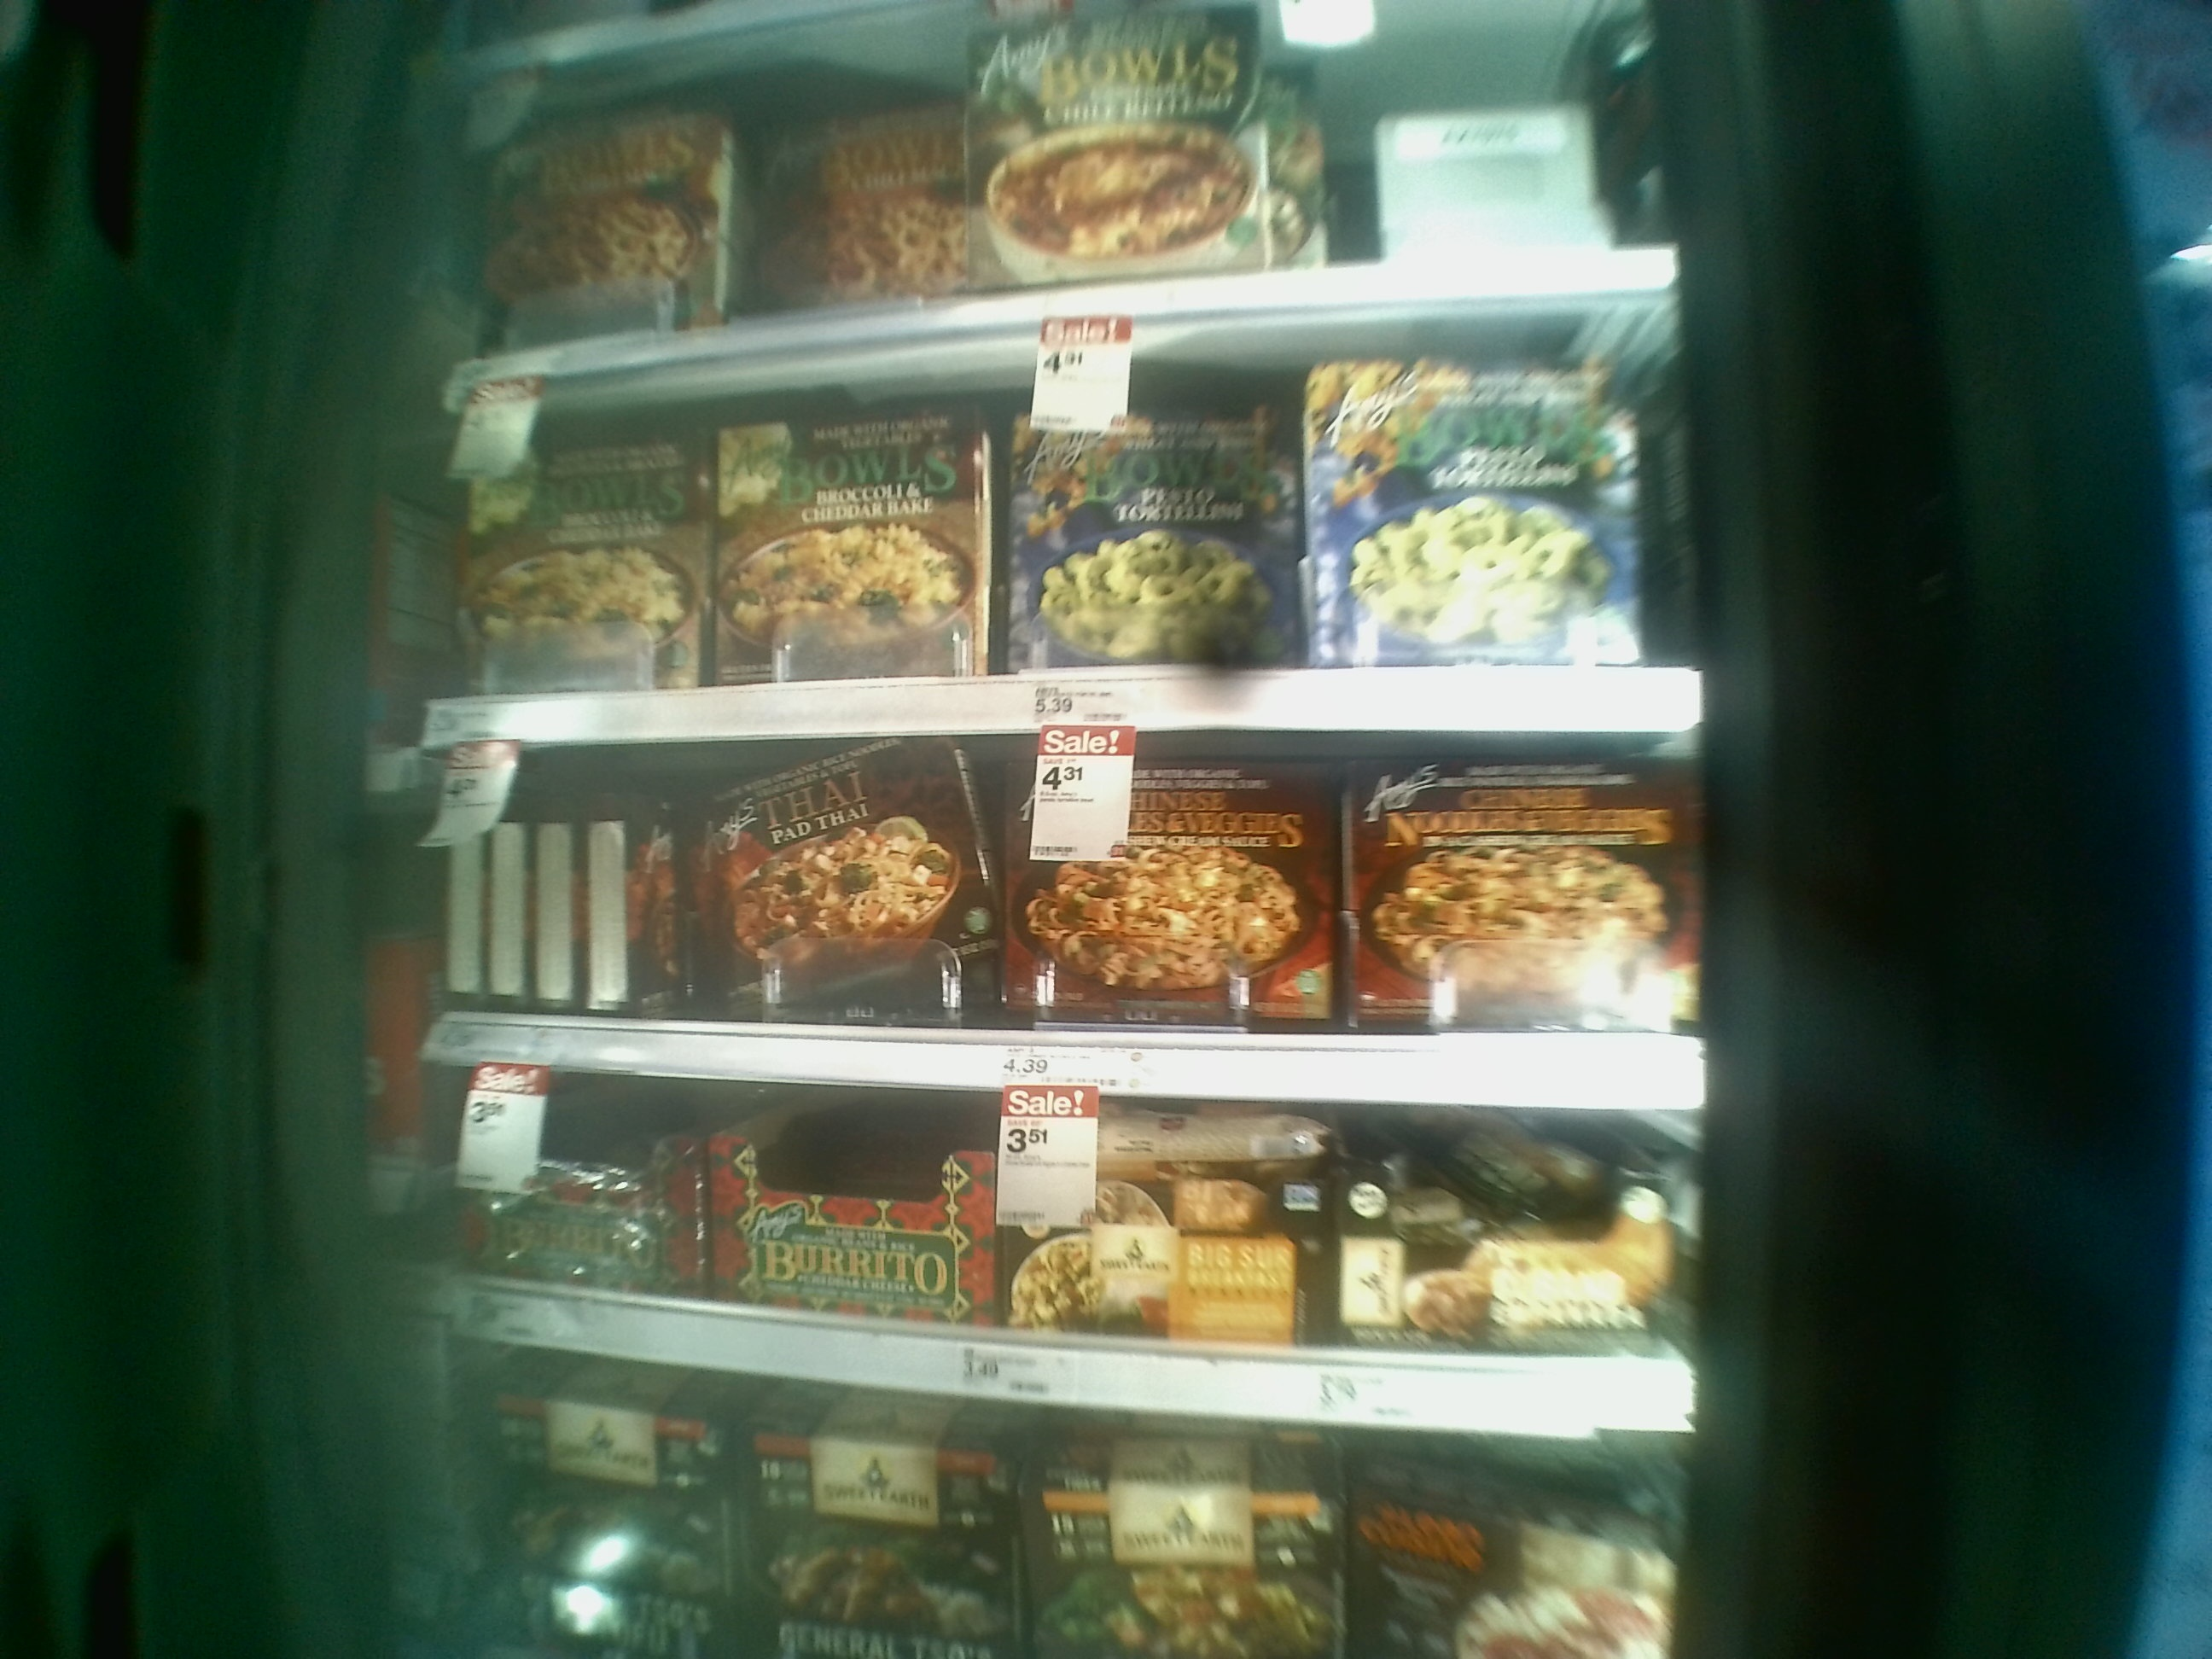shelf: (402, 342, 1716, 732), (430, 1065, 1712, 1427), (425, 741, 1705, 1087)
